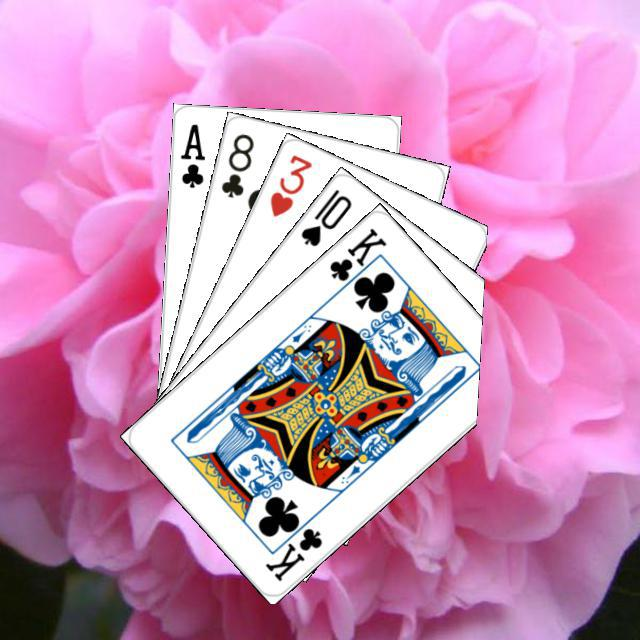10s: (295, 184, 354, 249)
3h: (264, 149, 314, 219)
8c: (216, 128, 256, 200)
Ac: (175, 119, 207, 190)
Kc: (324, 222, 389, 296), (260, 509, 324, 584)
